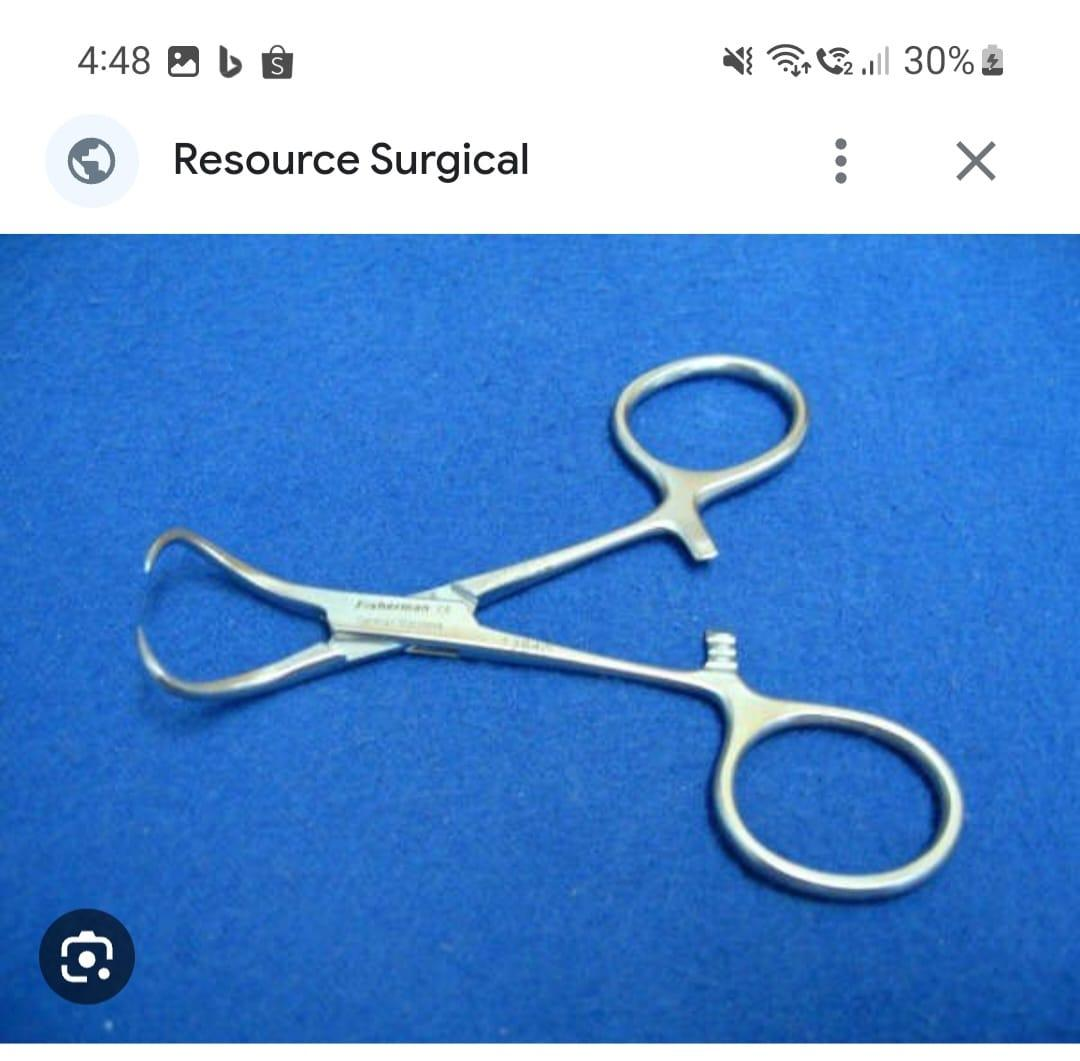Backhaus Towel Clamp: (123, 342, 993, 903)
